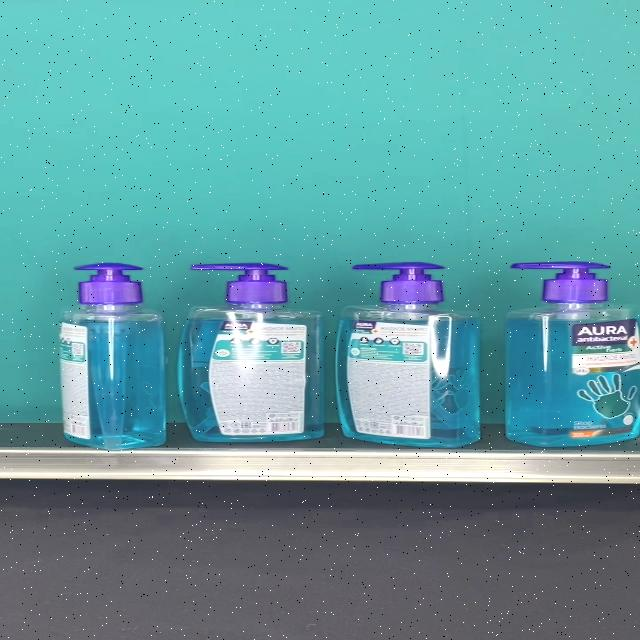Bottle: (336, 262, 479, 448), (178, 263, 324, 443), (506, 260, 640, 448), (59, 262, 165, 450)
Cap: (510, 260, 610, 302), (191, 263, 289, 304), (353, 262, 447, 304), (75, 263, 145, 304)
